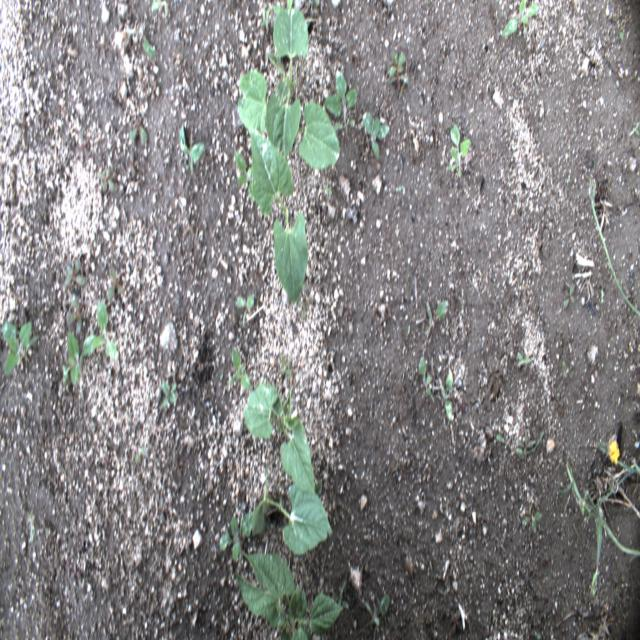crop: (251, 126, 308, 306), (237, 70, 340, 169), (237, 550, 343, 639), (243, 382, 314, 494), (252, 464, 332, 556), (266, 9, 308, 160)
weed: (558, 439, 640, 594), (588, 176, 640, 316), (323, 70, 358, 141), (1, 319, 41, 380), (62, 332, 104, 387), (219, 511, 255, 562), (361, 110, 391, 161), (178, 120, 206, 174), (446, 122, 472, 177), (501, 0, 539, 36), (94, 300, 116, 360), (234, 149, 258, 202), (228, 343, 251, 391), (387, 50, 408, 96), (104, 261, 126, 300), (365, 594, 390, 627), (426, 299, 448, 336), (438, 369, 453, 423), (63, 292, 82, 334), (64, 256, 88, 288), (236, 292, 254, 329), (418, 354, 433, 398), (522, 501, 542, 533), (128, 118, 148, 146), (160, 380, 180, 407), (98, 165, 116, 191), (141, 31, 156, 59), (562, 282, 576, 311), (527, 430, 543, 455), (338, 578, 350, 610), (517, 434, 533, 458), (278, 353, 292, 376), (152, 0, 170, 17), (274, 0, 292, 16), (27, 510, 35, 542), (261, 6, 270, 32), (558, 359, 570, 378), (516, 350, 530, 366), (134, 446, 145, 465), (628, 119, 638, 138), (496, 433, 507, 447), (314, 478, 322, 496), (533, 630, 541, 639), (326, 186, 332, 197), (515, 447, 522, 456), (618, 30, 623, 40), (600, 291, 604, 302)
